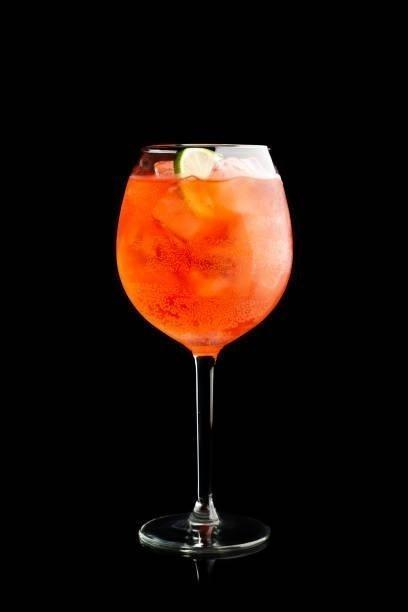glass-wine: (113, 140, 295, 558)
